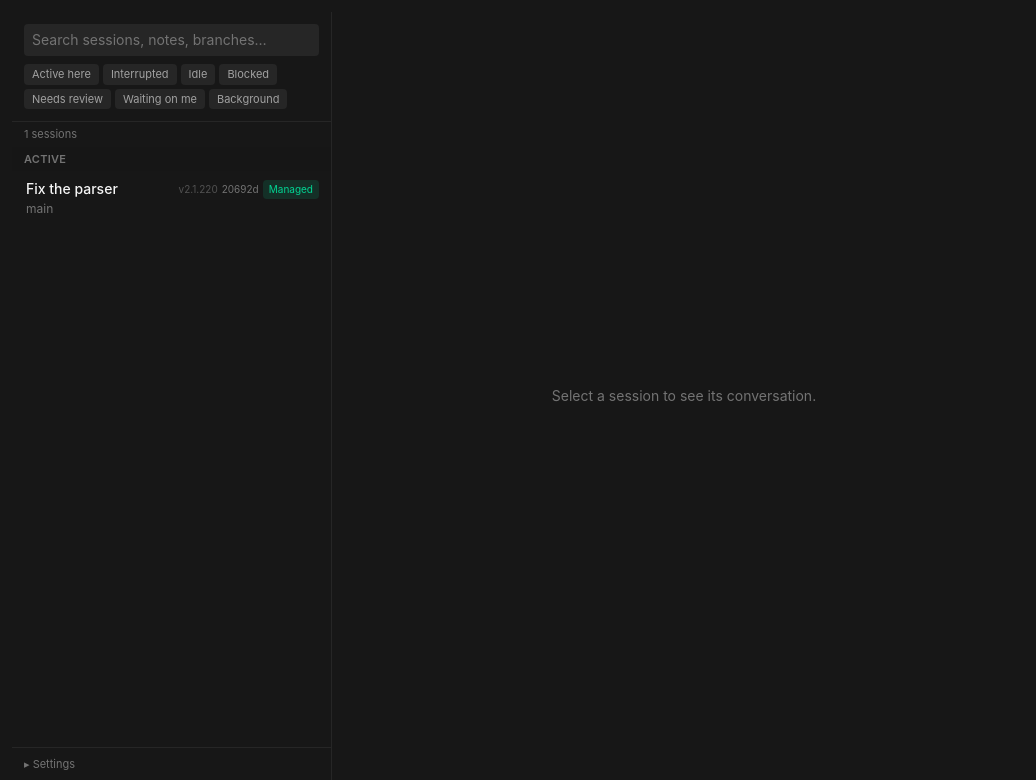
Test case: App › disables worktree removal in the Git tab for a live session
Expected: the text "Managed" is shown, [263,180,319,198]
Step 1. Click the text "Fix the parser" → (72, 189), box [26,179,118,199]
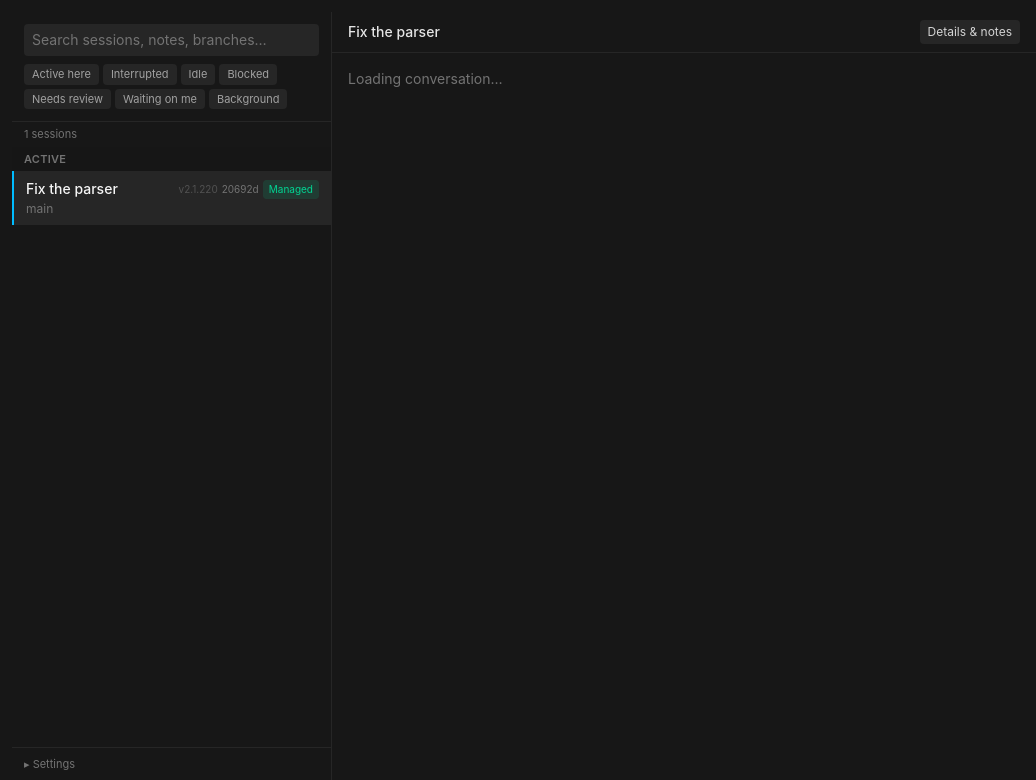
Step 2. Click the button "Details & notes" → (970, 32), box [920,20,1020,44]
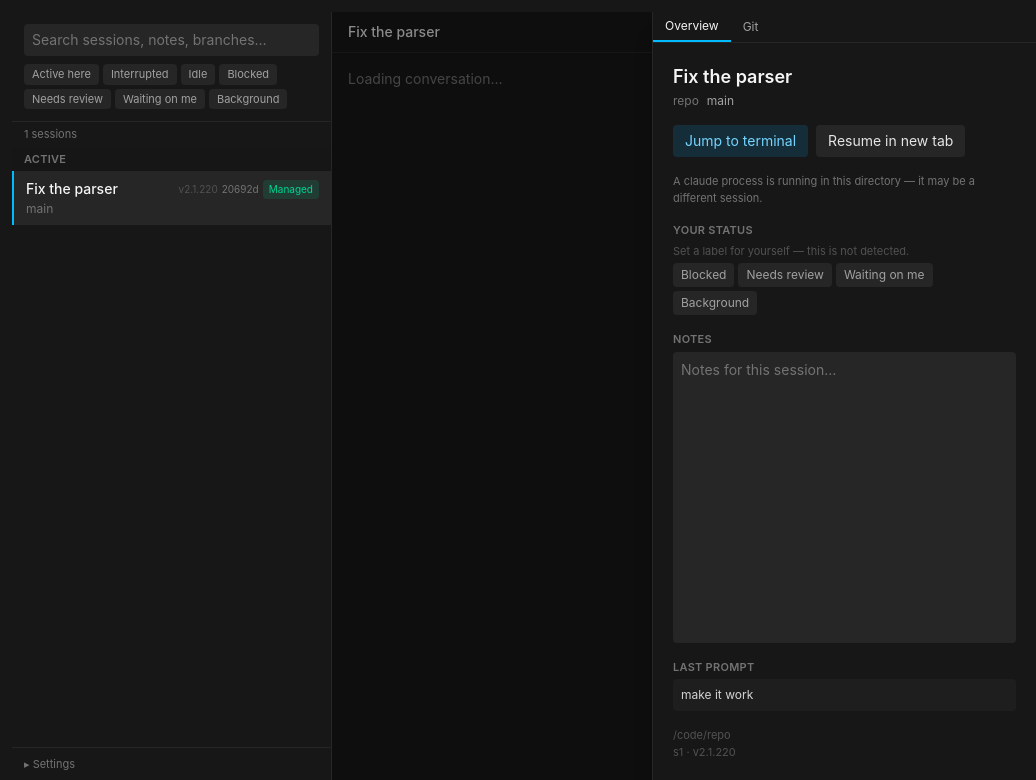
Step 3. Click the button "Git" → (750, 27), box [731,12,770,42]
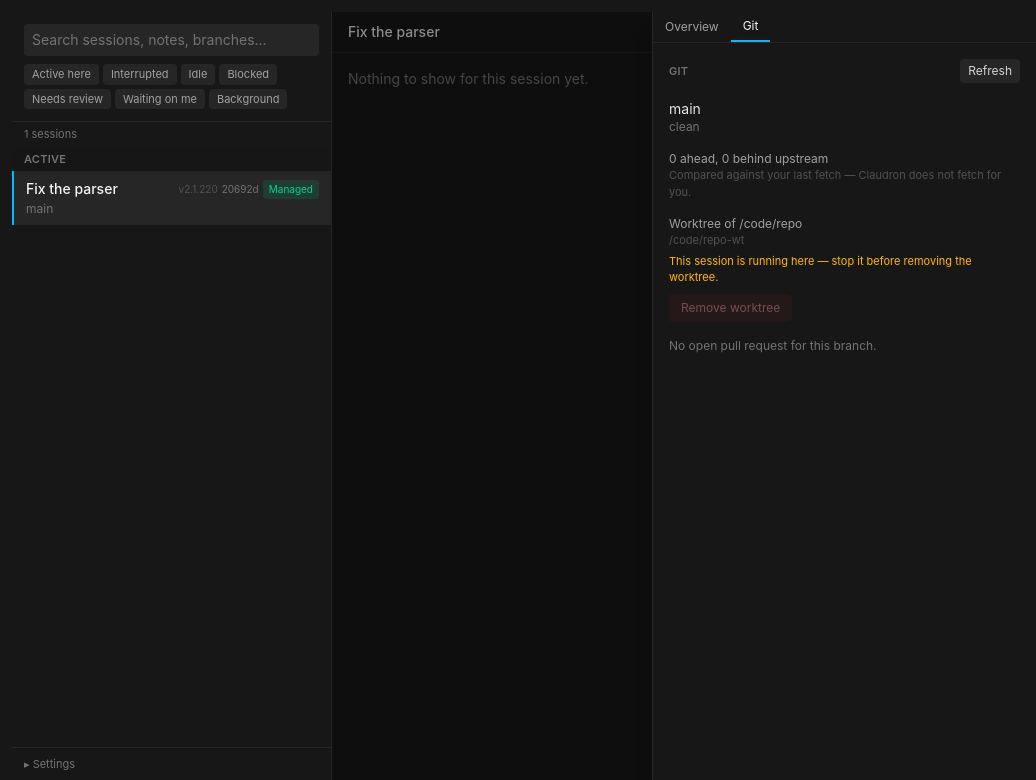
Expected: the button "Remove worktree" is disabled, [669,294,792,322]
